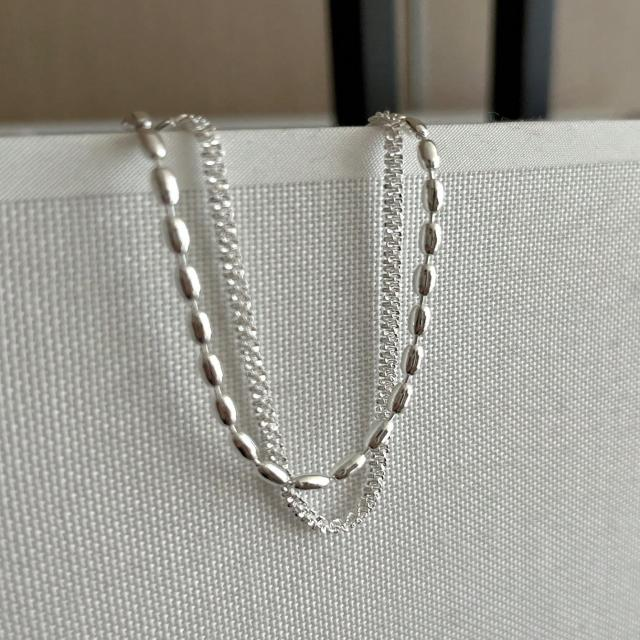bracelet: (86, 66, 546, 531)
